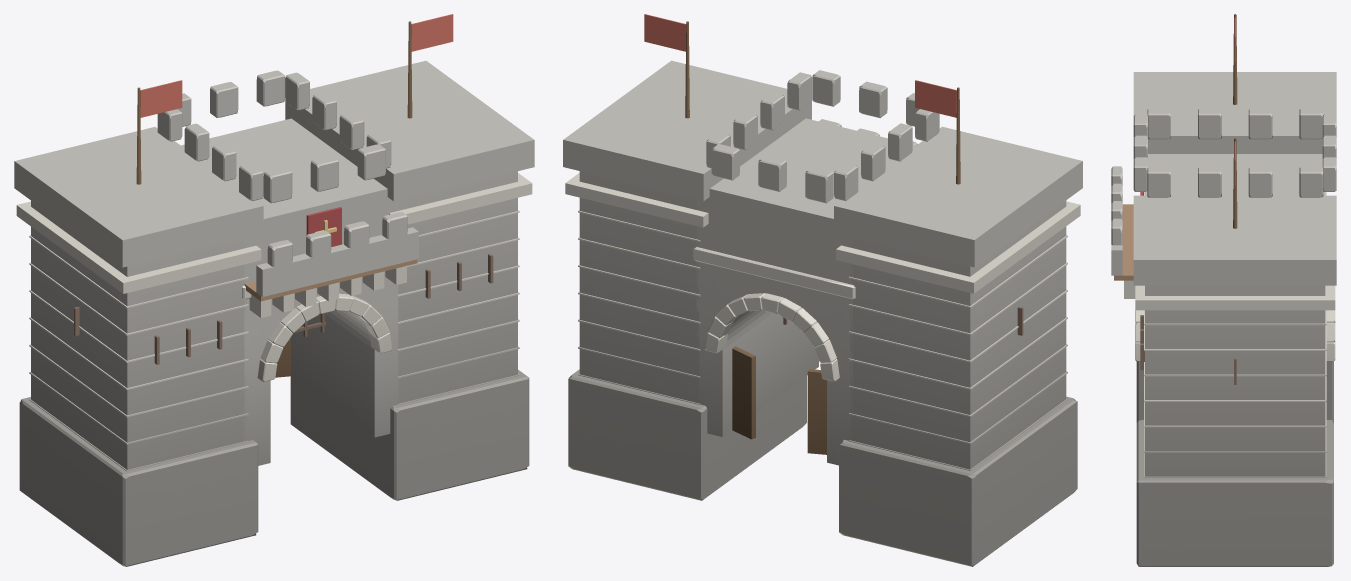
The model's file is torhaus.glb.
3 renders of one model, left to right at view 1: azimuth 30°, elevation 25°; view 2: azimuth 150°, elevation 25°; view 3: azimuth 270°, elevation 25°, orthographic. The views are drawn at different scales.
Visible parts, largest first — view 1: G_torhaus; view 2: G_torhaus; view 3: G_torhaus.
Boxes of the visible parts, <box> form: G_torhaus: <box>14,14,534,566</box>; G_torhaus: <box>563,14,1082,566</box>; G_torhaus: <box>1111,14,1336,566</box>.
Bounding box in the file's own units: 15.8 × 15.6 × 8.
